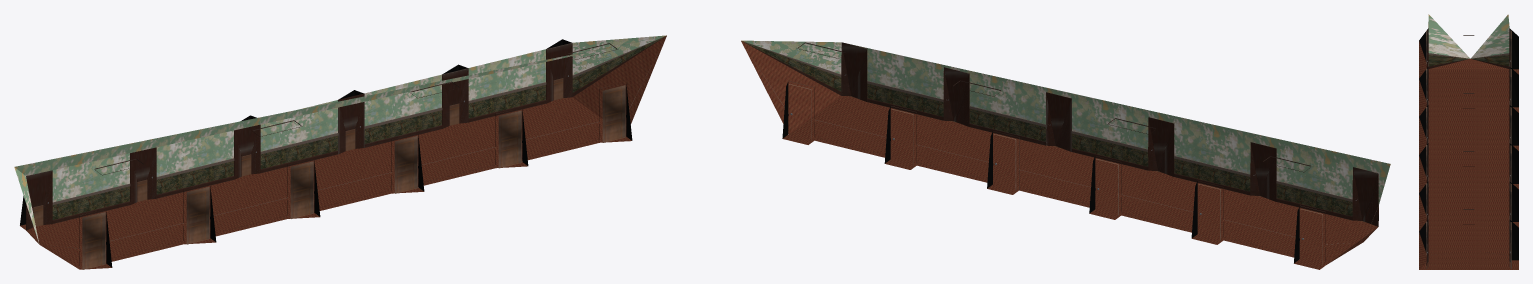
The model's file is garage_row.glb.
The picture shows the model from 3 angles, left to right: view 1: azimuth 30°, elevation 25°; view 2: azimuth 150°, elevation 25°; view 3: azimuth 270°, elevation 25°; orthographic projection. The views are drawn at different scales.
Visible parts, largest first — view 1: garage_row; view 2: garage_row; view 3: garage_row.
Part boxes in pixels (left/top/right/bottom): garage_row: left=14, top=35, right=666, bottom=269; garage_row: left=741, top=40, right=1390, bottom=269; garage_row: left=1419, top=14, right=1518, bottom=269.
Bounding box in the file's own units: 26.94 × 2.76 × 4.9.
10 materials, 8 textured.
